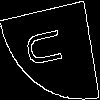U: (25, 24, 71, 70)
